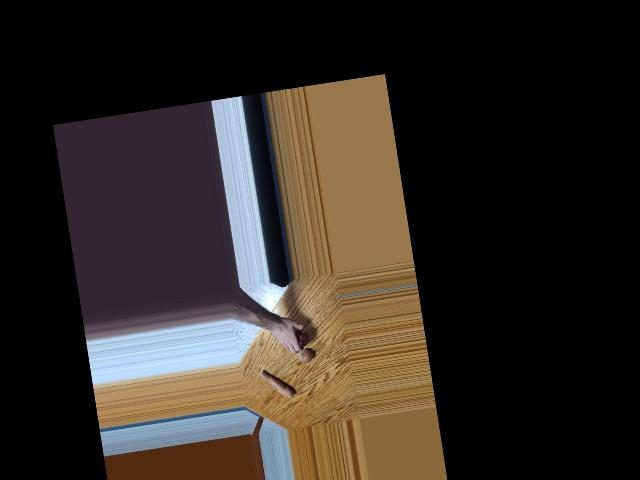onion: (292, 331, 309, 349)
